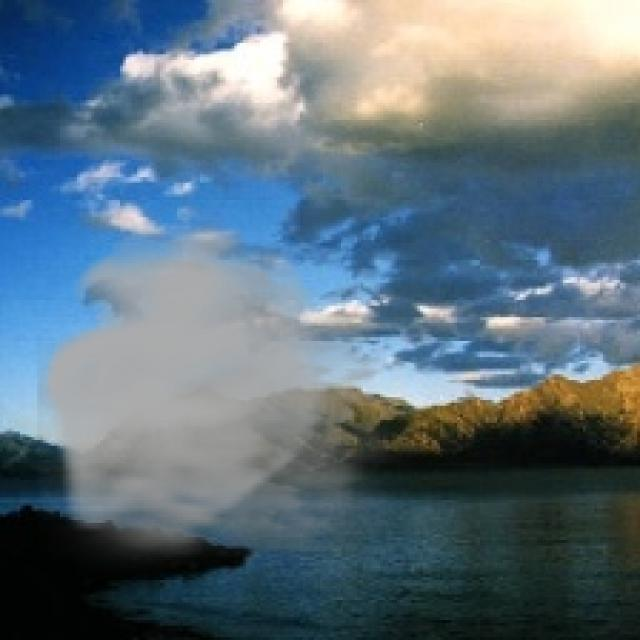smoke: (37, 223, 426, 577)
